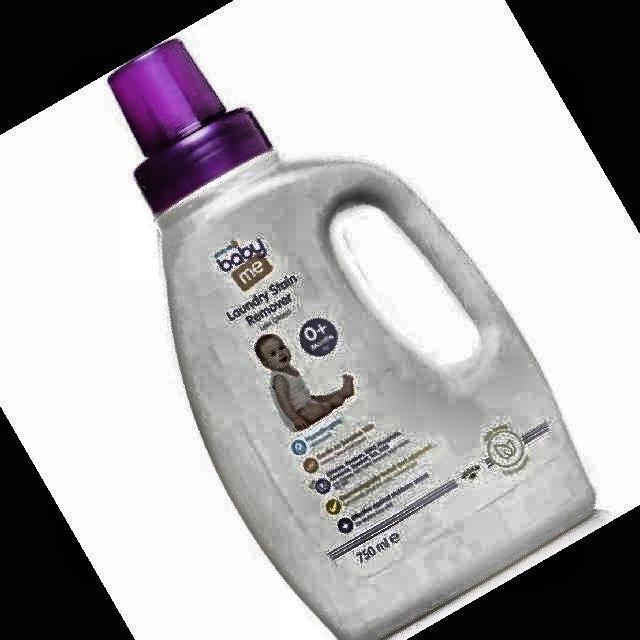plastic: (109, 40, 594, 639)
